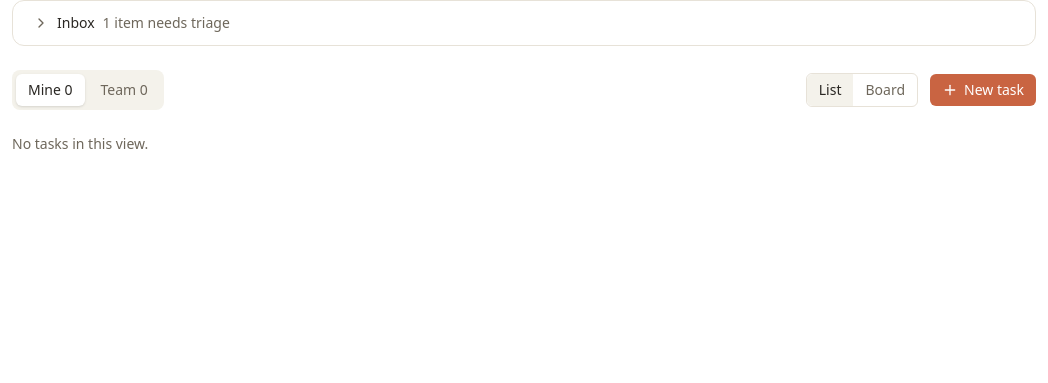
Test case: TasksSurface source meeting link › hides the link from a viewer the task's clearance does not cover
The image size is (1048, 383).
Click the heading "Inbox 1 item needs triage": [131, 22] box top-left (33, 13), bottom-right (230, 32)
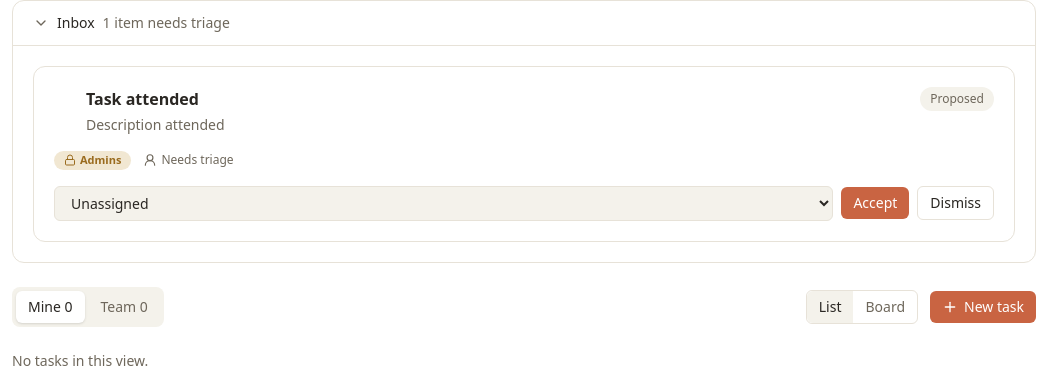
Expected: the link "Task attended" is shown, top-left (86, 88), bottom-right (199, 110)
